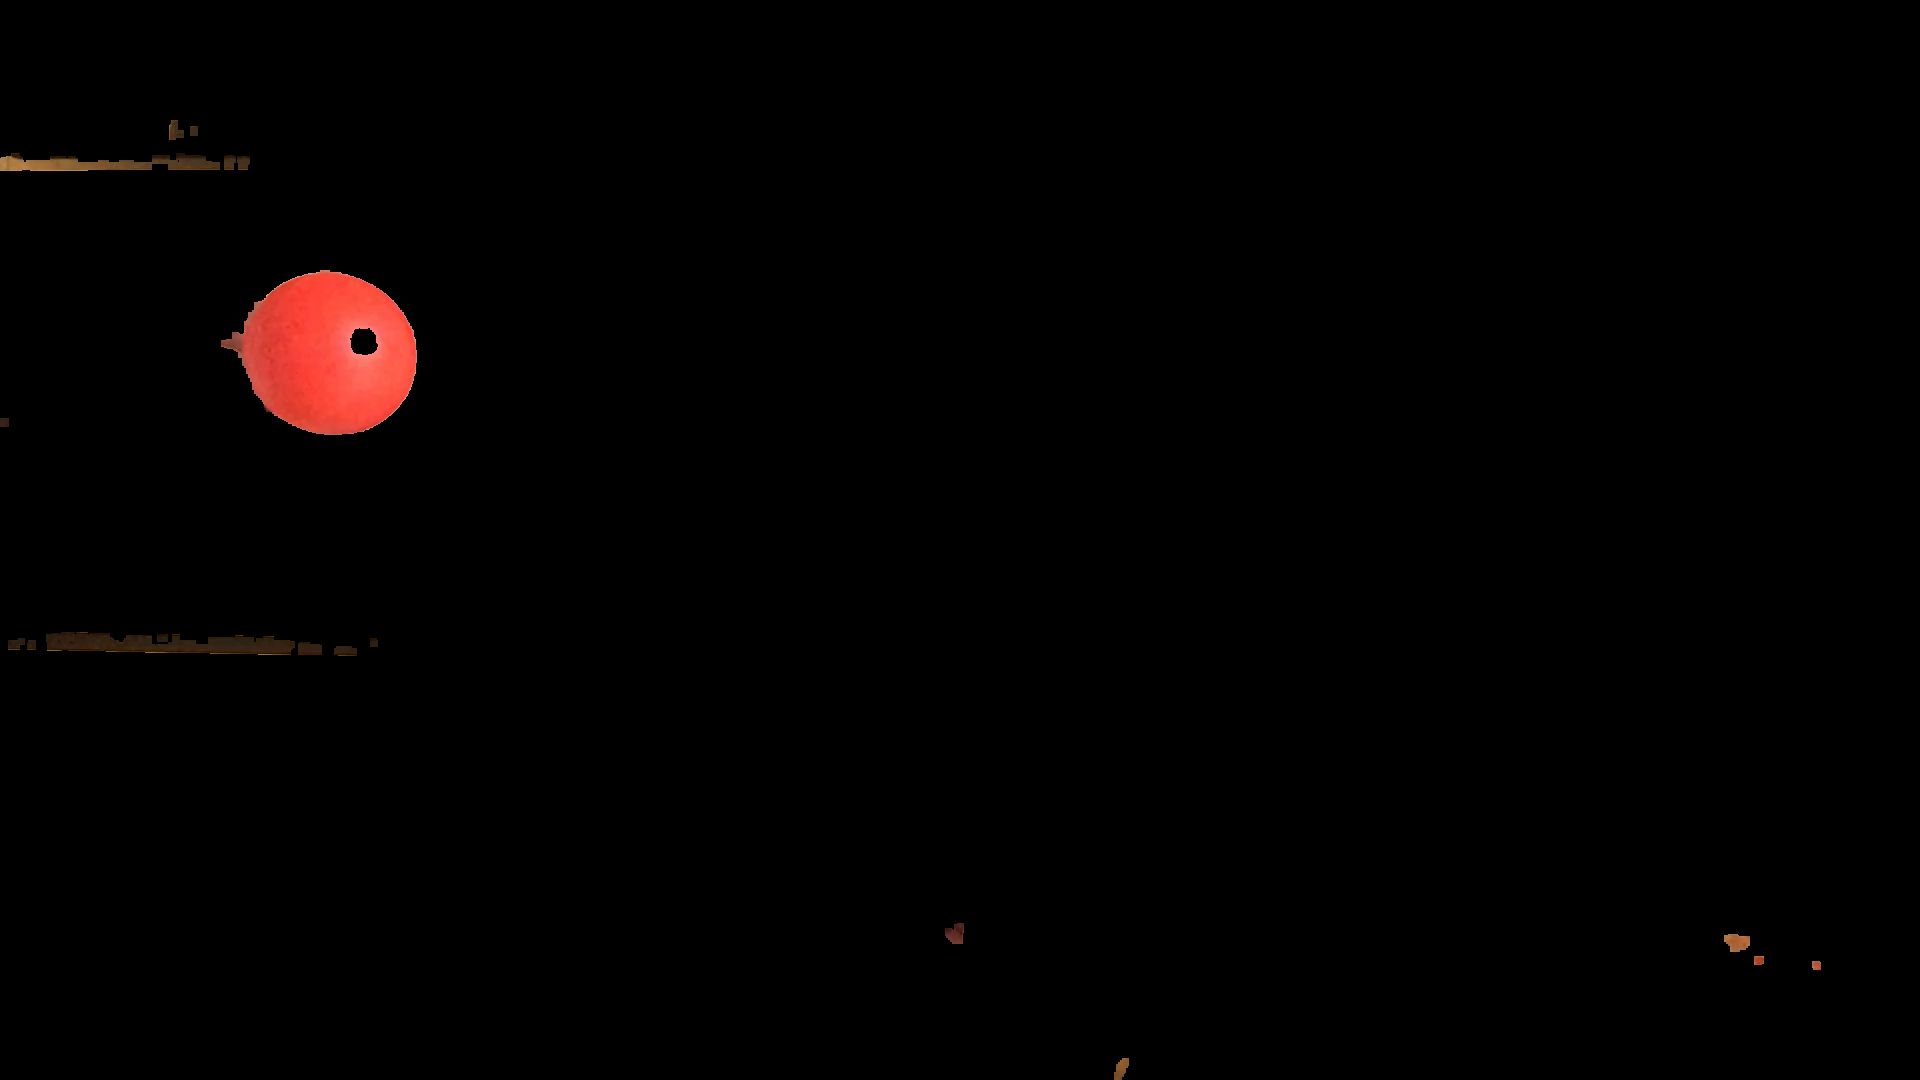Ball: (243, 276, 415, 436)
